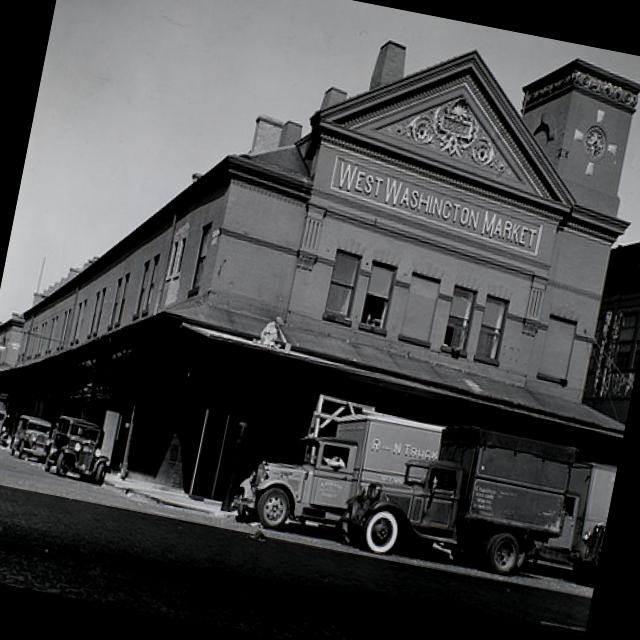Vehicle: (337, 404, 581, 588), (223, 382, 447, 562), (524, 441, 620, 588), (44, 414, 114, 484), (10, 414, 54, 465), (0, 401, 13, 446)
